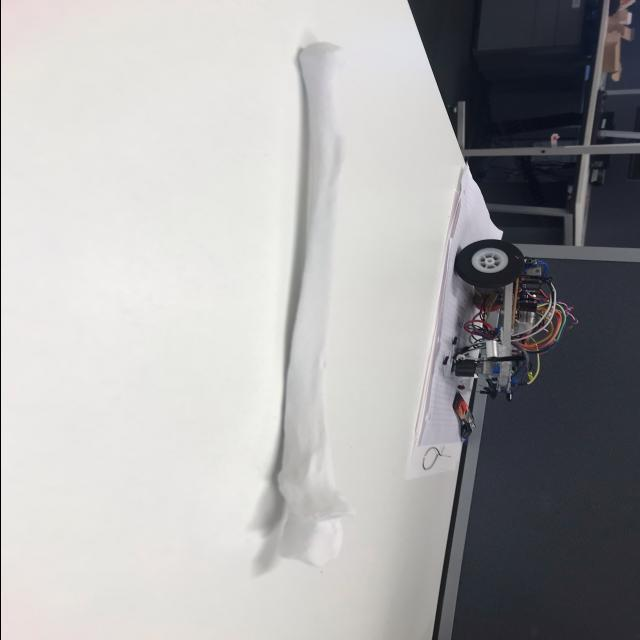bone: (266, 35, 358, 569)
